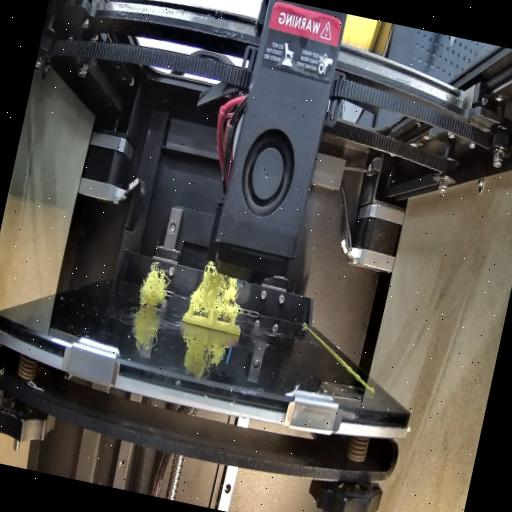spaghetti: (184, 262, 244, 322), (136, 265, 176, 313)
